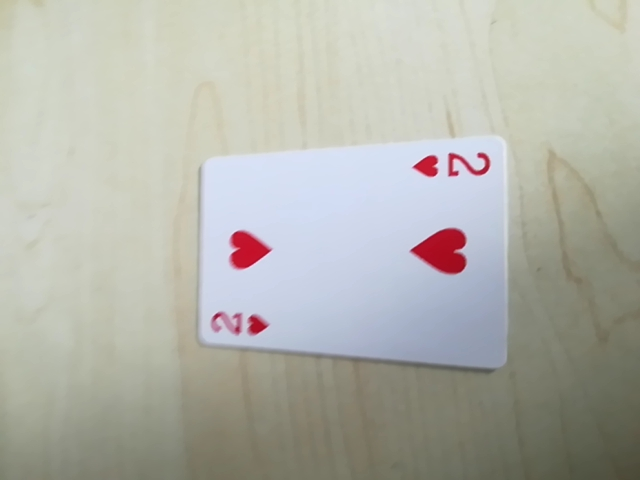hx 2: (411, 142, 498, 190), (204, 303, 279, 344)
